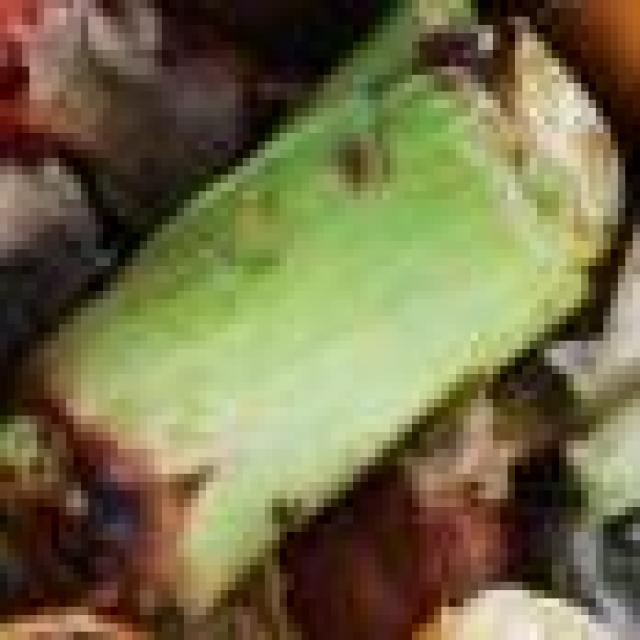food waste: (0, 0, 640, 632)
